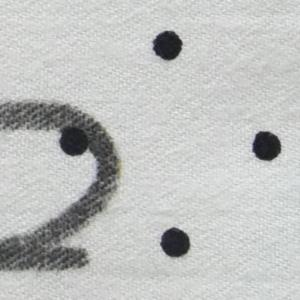Stain: (1, 94, 125, 277)
